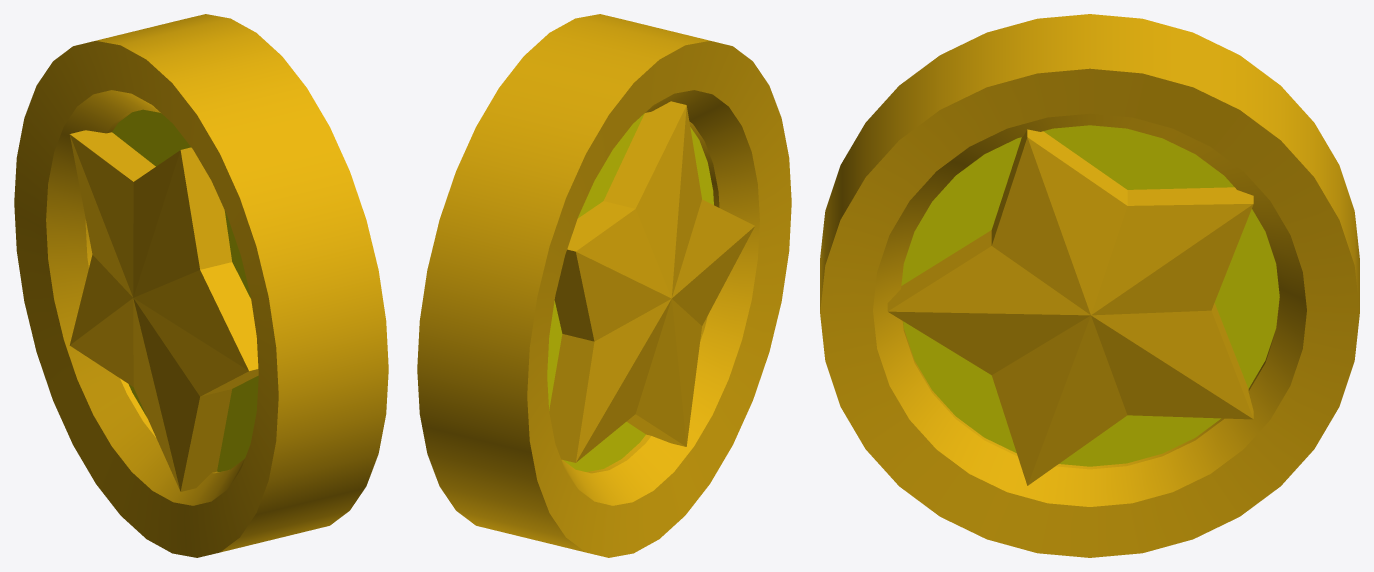
The model's file is Coin.fbx.
3 renders of one model, left to right at view 1: azimuth 30°, elevation 25°; view 2: azimuth 150°, elevation 25°; view 3: azimuth 270°, elevation 25°, orthographic. The views are drawn at different scales.
Visible parts, largest first — view 1: Cylinder.017, Cylinder.018; view 2: Cylinder.017, Cylinder.018; view 3: Cylinder.017, Cylinder.018.
Boxes of the visible parts, x1=… form: Cylinder.017: x1=14, y1=14, x2=388, y2=557; Cylinder.018: x1=69, y1=130, x2=258, y2=491; Cylinder.017: x1=417, y1=14, x2=791, y2=557; Cylinder.018: x1=549, y1=101, x2=754, y2=462; Cylinder.017: x1=820, y1=14, x2=1359, y2=557; Cylinder.018: x1=887, y1=129, x2=1253, y2=485.
Size of the model in its own units: 0.2365 by 0.8 by 0.8.
